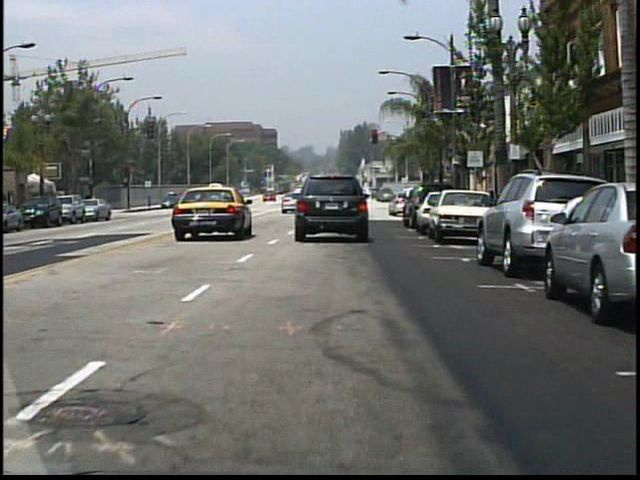person: (343, 189, 359, 213), (201, 188, 215, 213)
